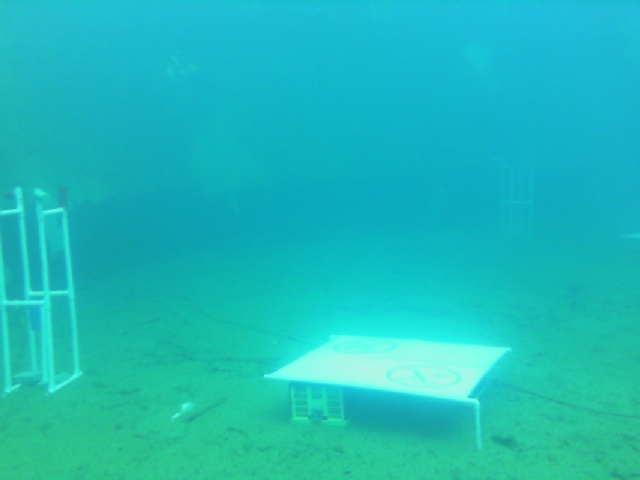object_dropoff: (264, 320, 525, 448)
object_pickup: (3, 184, 91, 390)
